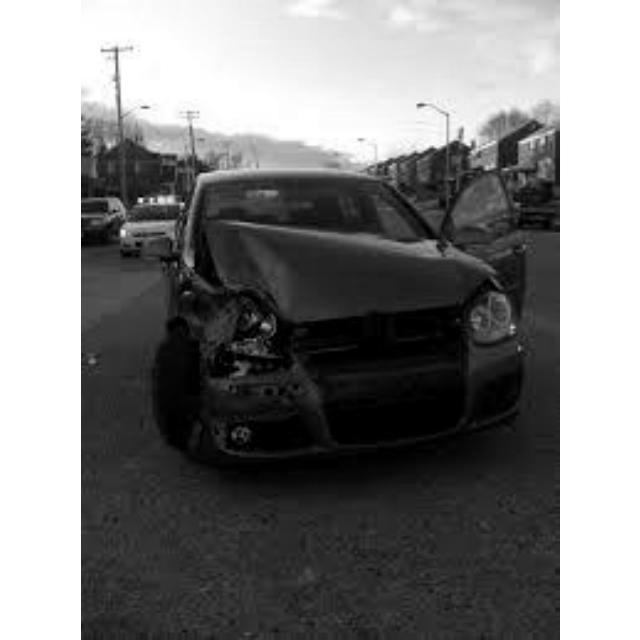Headlight-damage: (199, 329, 310, 393)
front-bumper-dent: (195, 215, 340, 323)
